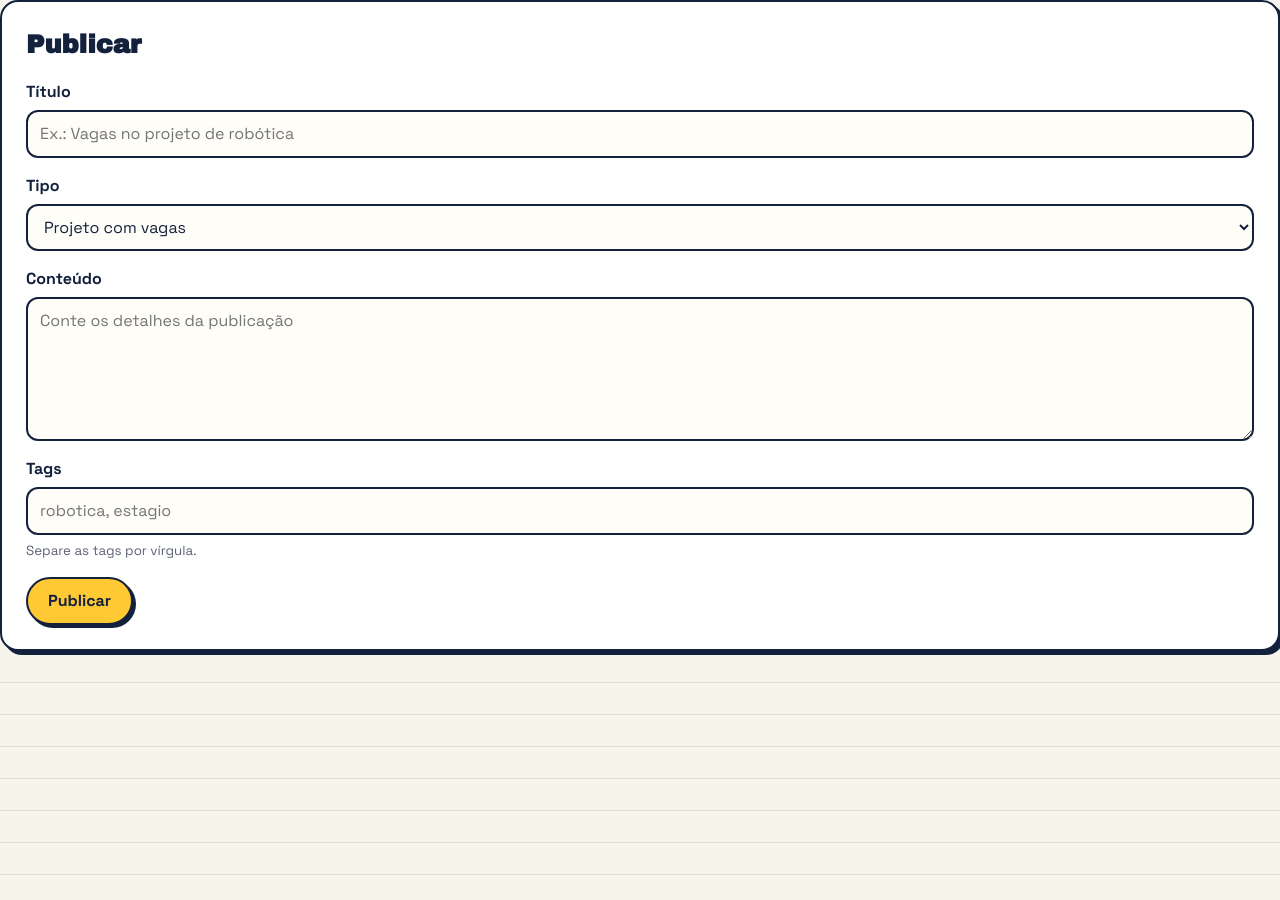
Test: PostForm › mostra a mensagem de erro quando a API recusa
Step 1. Type "Feira de Ciências" into the field labelled "Título" → (640, 134), box [26,110,1254,158]
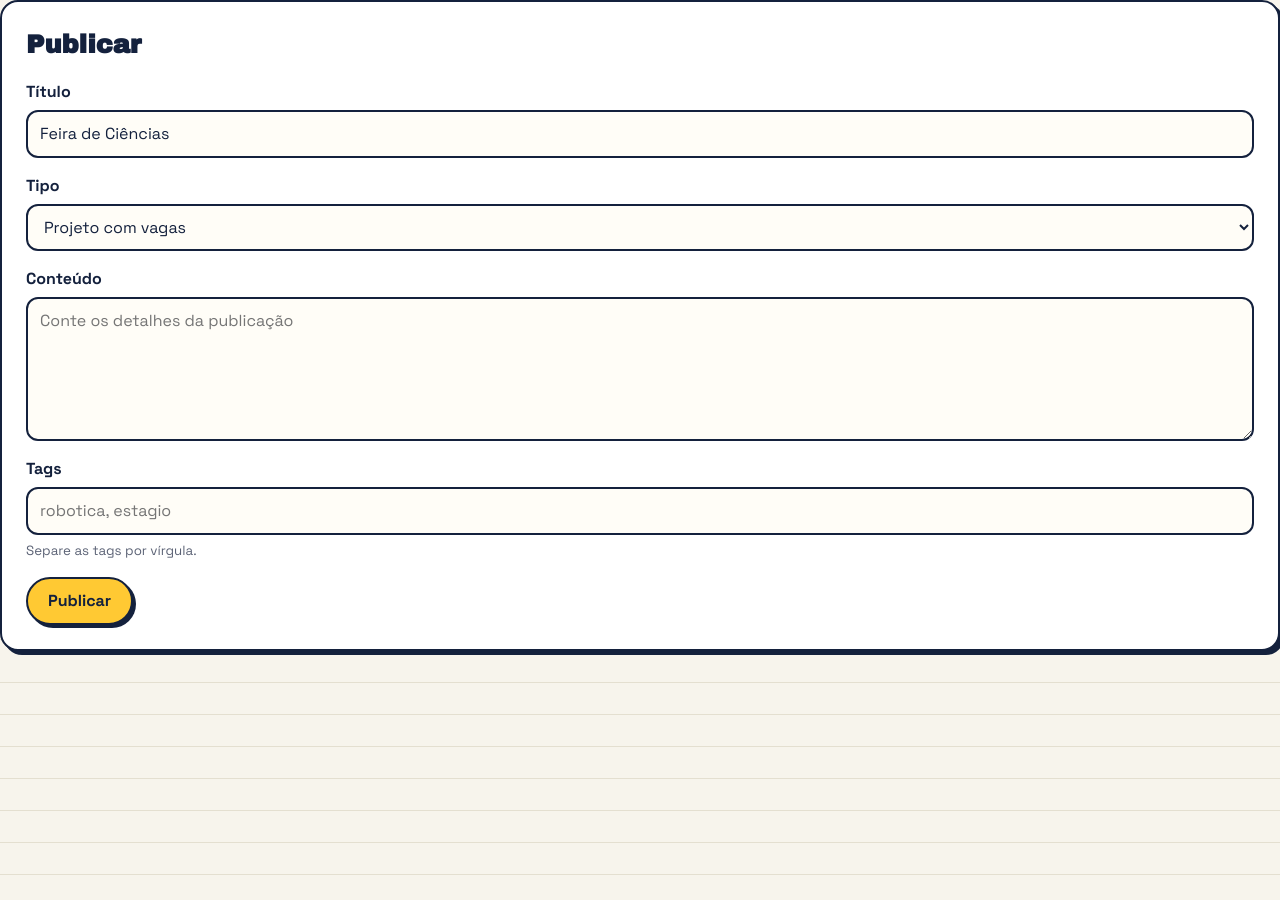
Step 2. Type "No ginásio, às 9h." into the text box labelled "Conteúdo" → (640, 369), box [26,297,1254,441]
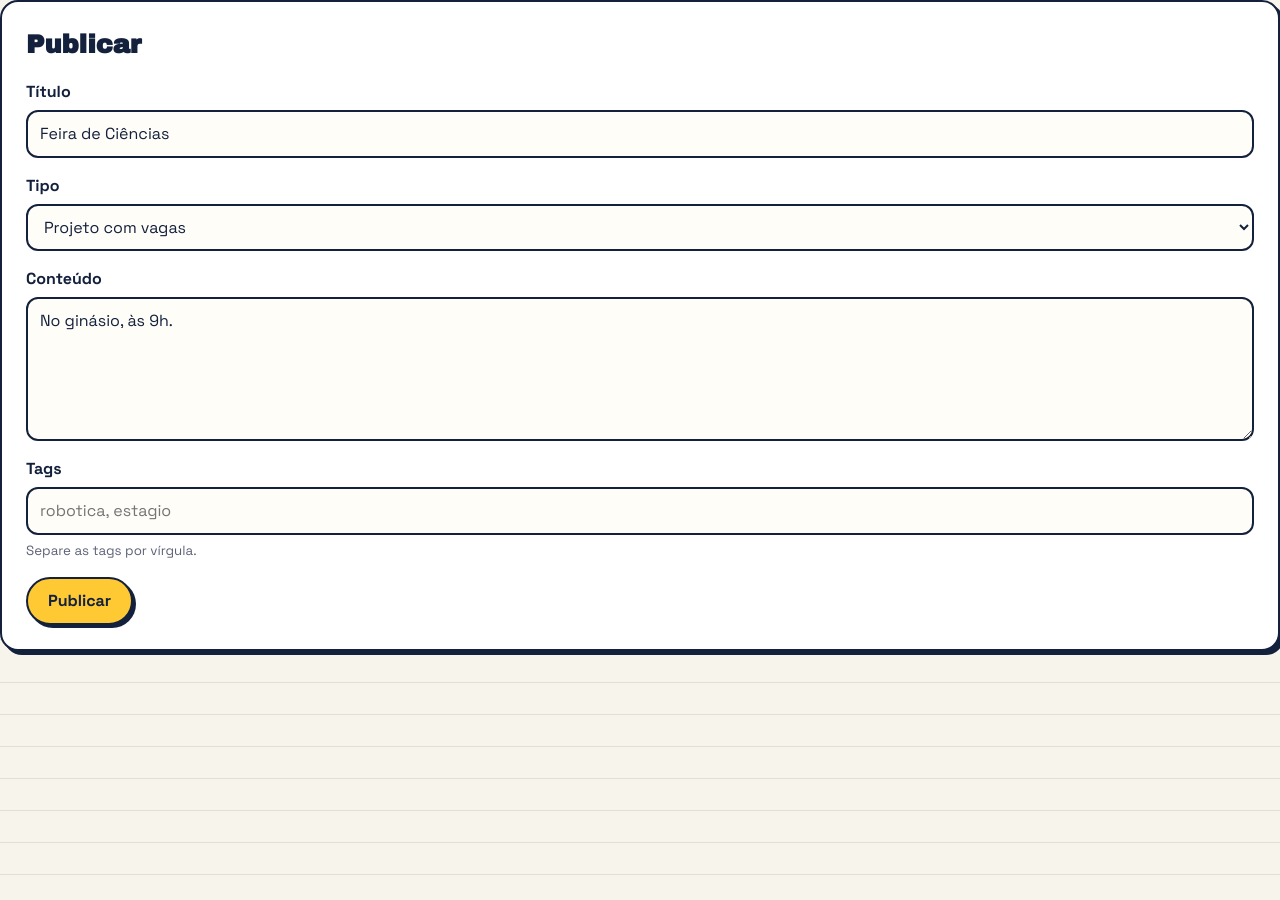
Step 3. Click the button "Publicar" → click(80, 601), box [26,577,133,625]
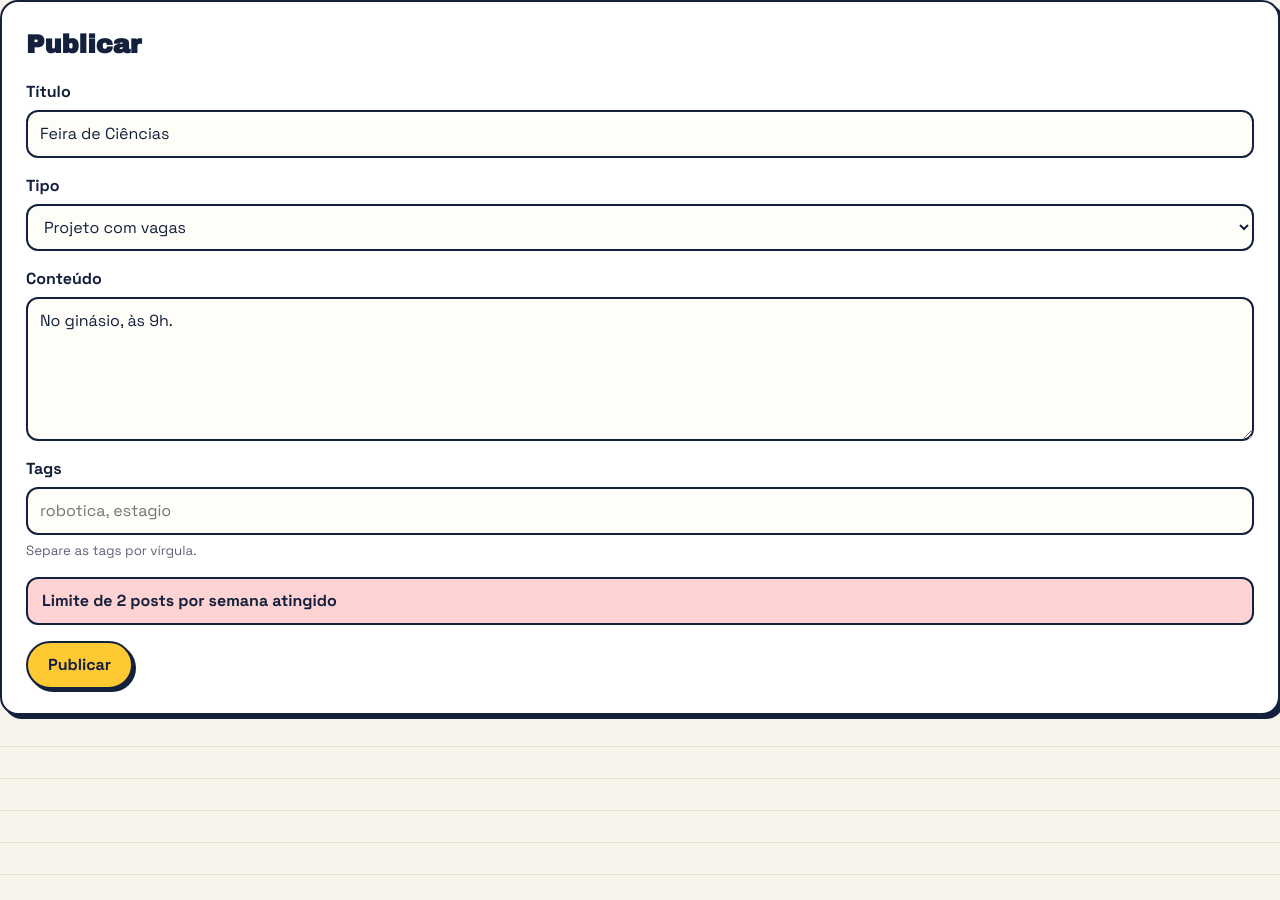
Now the message reads "Limite de 2 posts por semana atingido", box [42,590,337,611]
